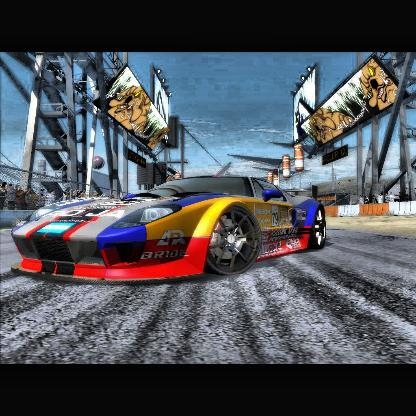Ford GT Coupe 2006: (11, 176, 327, 281)
